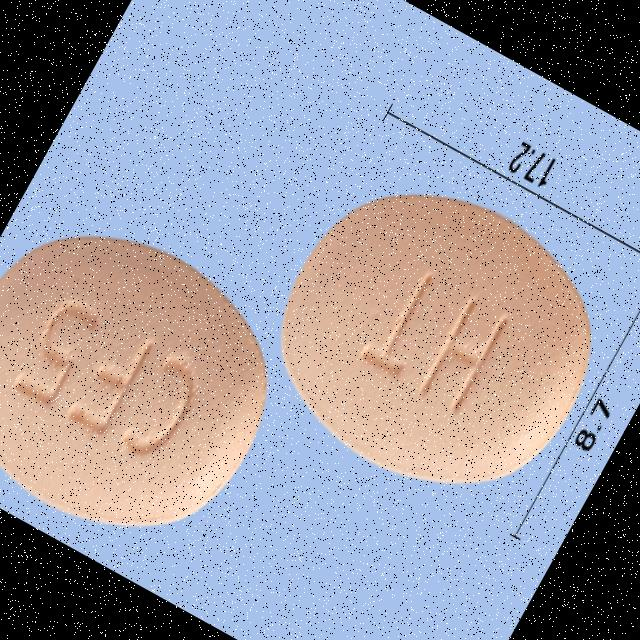Crafroxin Tab: (234, 142, 638, 536), (0, 186, 314, 580)
